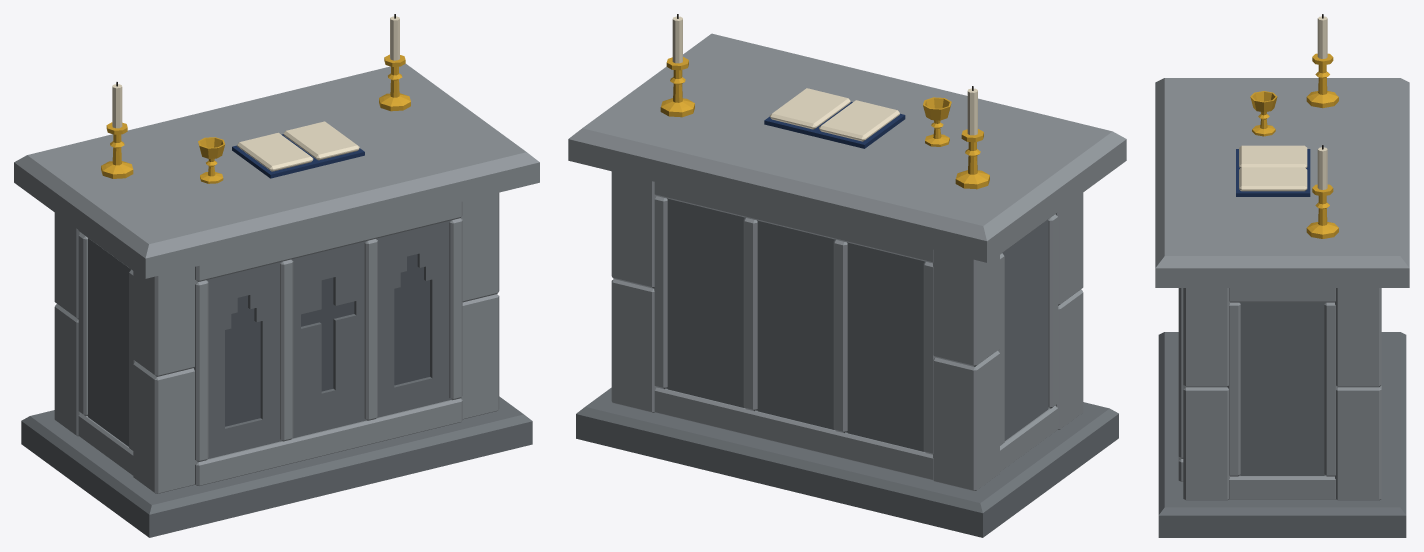
File: mdvl_interiors_altar_01.glb
3 renders of one model, left to right at view 1: azimuth 30°, elevation 25°; view 2: azimuth 150°, elevation 25°; view 3: azimuth 270°, elevation 25°, orthographic. The views are drawn at different scales.
Visible parts, largest first — view 1: mdvl_interiors_altar_01; view 2: mdvl_interiors_altar_01; view 3: mdvl_interiors_altar_01.
Boxes of the visible parts, left/top/right/bottom form: mdvl_interiors_altar_01: left=14, top=14, right=539, bottom=537; mdvl_interiors_altar_01: left=568, top=14, right=1126, bottom=537; mdvl_interiors_altar_01: left=1155, top=14, right=1409, bottom=537.
Bounding box in the file's own units: 1.42 × 1.31 × 0.82.
Materials: 1 (1 with a texture image).
